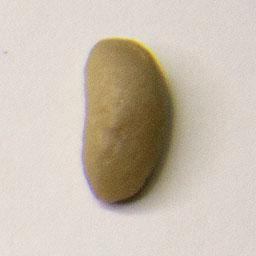longberry: (80, 33, 170, 206)
